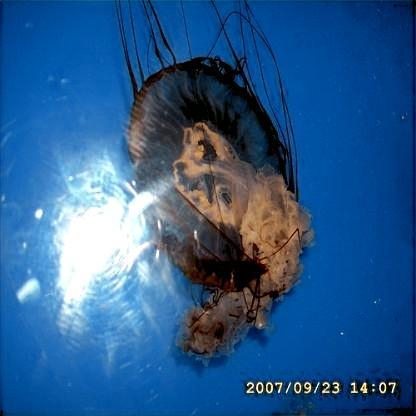Dressed: (128, 62, 315, 362)
